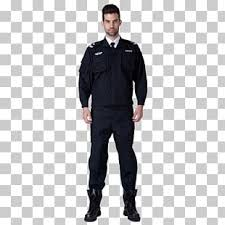uniform: (87, 40, 138, 190)
